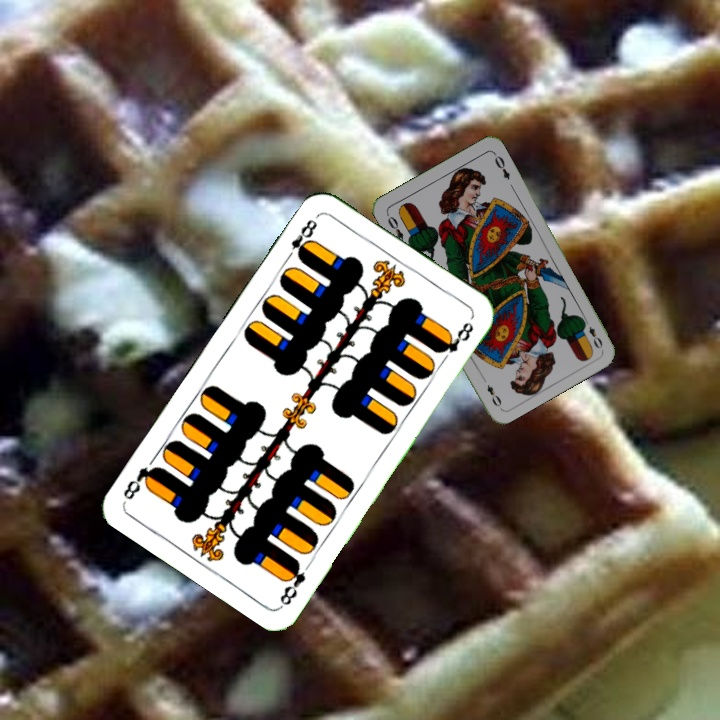E8: (281, 212, 321, 264), (275, 556, 308, 609)
EO: (579, 314, 605, 351), (382, 210, 406, 243)
